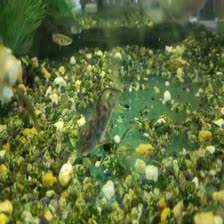Guppy: (12, 88, 37, 132)
Kiros: (63, 82, 130, 161)
